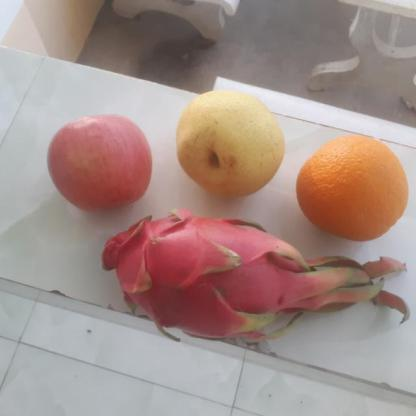apple: (44, 114, 152, 210)
orange: (293, 135, 408, 243)
pear: (171, 90, 287, 194)
pitaya: (93, 206, 307, 324)
